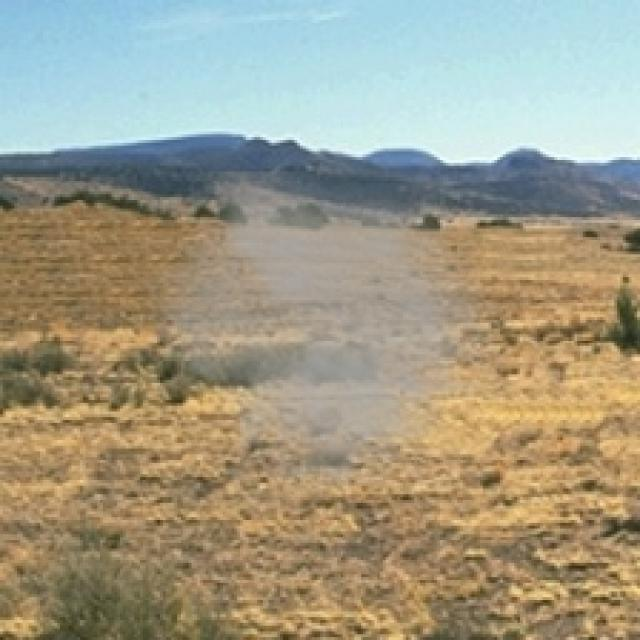smoke: (134, 171, 517, 526)
